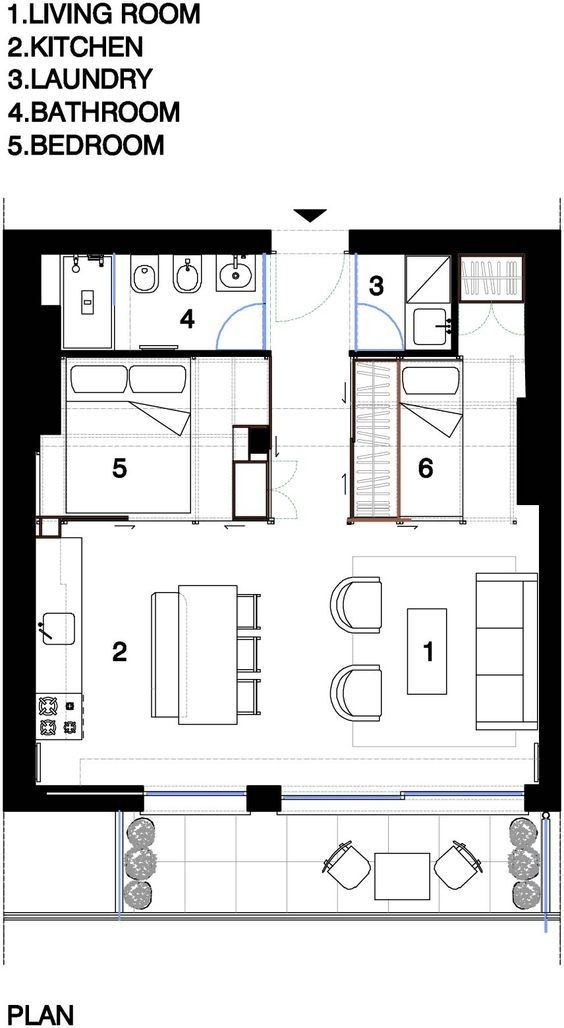door: (268, 249, 359, 325), (200, 296, 280, 356), (457, 301, 528, 354), (349, 296, 411, 356), (271, 451, 306, 529)
room: (36, 516, 561, 813), (6, 238, 279, 526), (347, 229, 544, 529), (271, 225, 350, 529)
wall: (6, 228, 53, 815), (523, 211, 564, 826), (3, 215, 277, 264), (347, 217, 564, 266), (46, 328, 261, 372), (6, 772, 148, 821), (345, 348, 470, 369), (445, 246, 466, 362), (247, 778, 285, 825)
